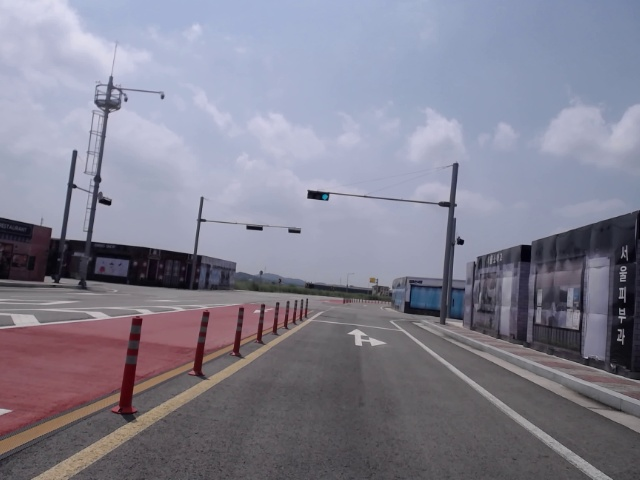green_3: (307, 190, 331, 201)
